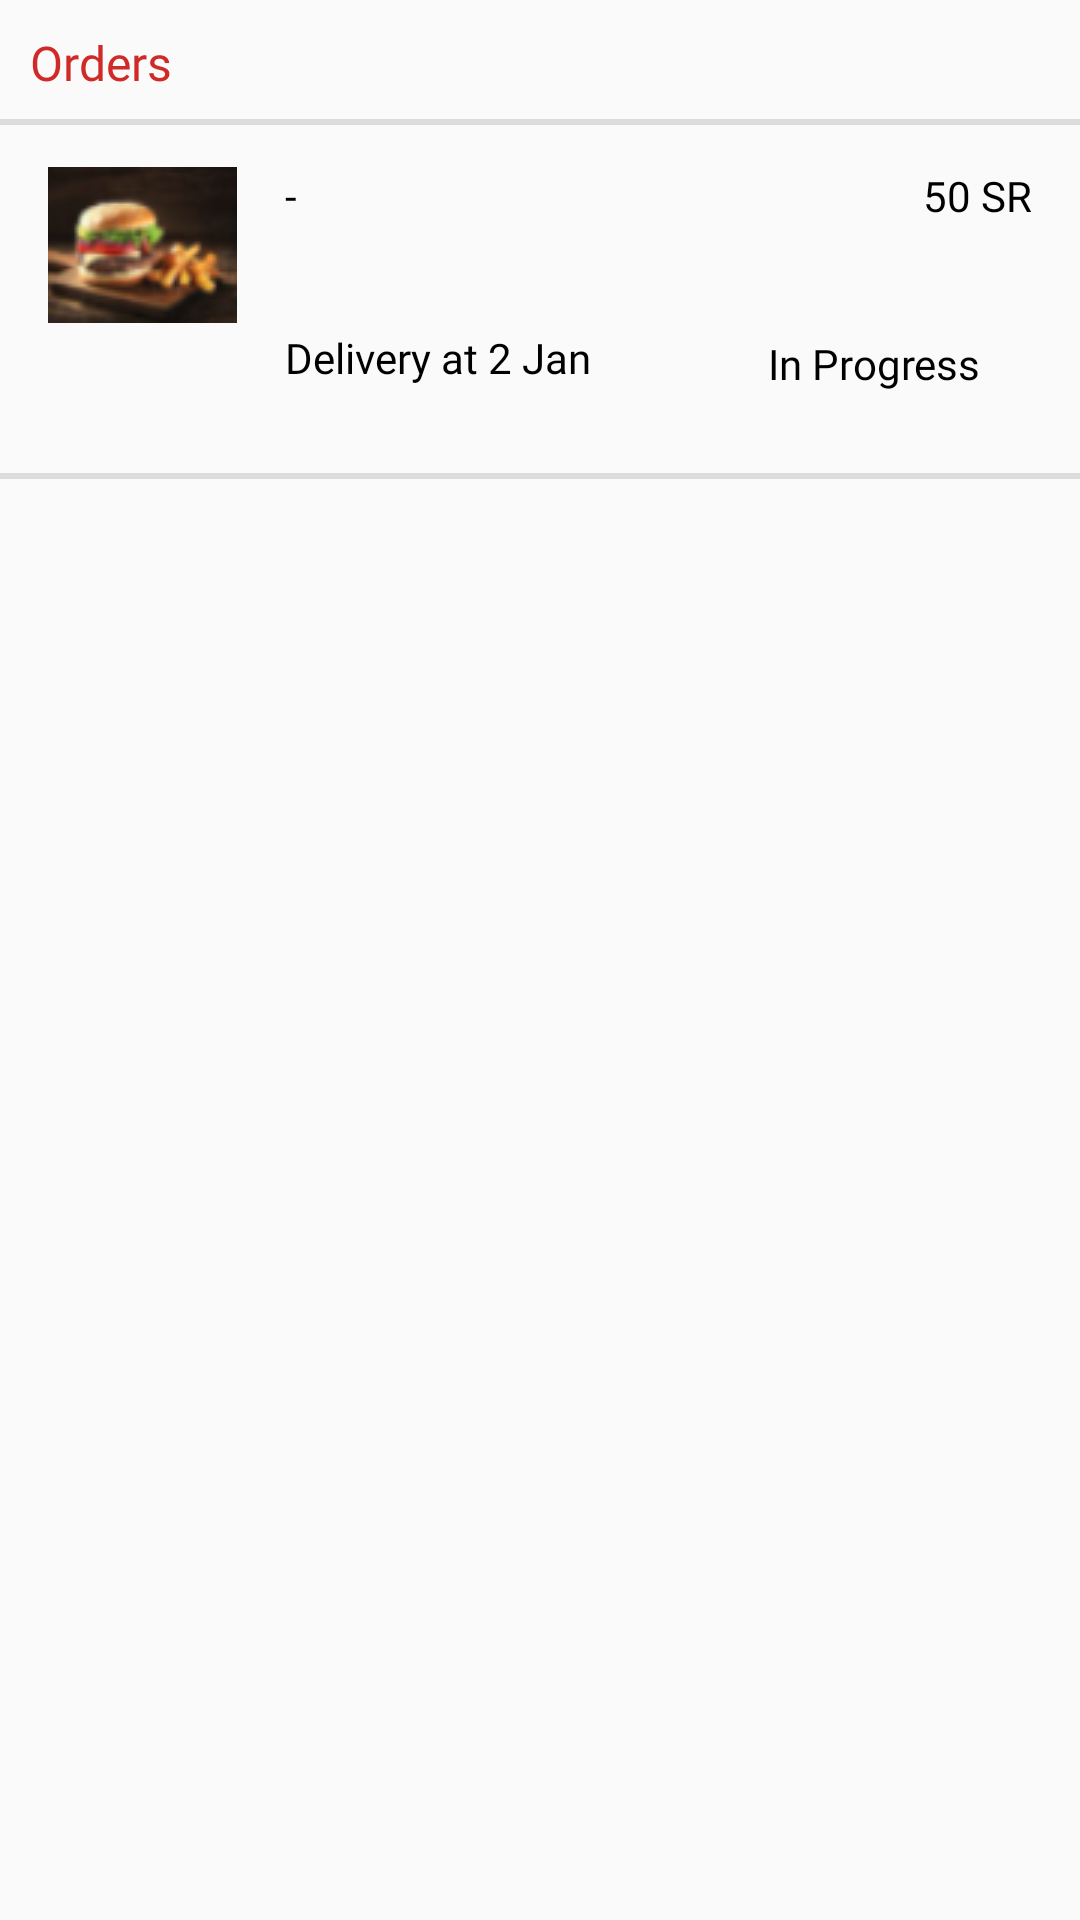

Where to tap for icons on this 1080×1920 app screen, as (x=x, y=y):
burger: (x=142, y=245)
